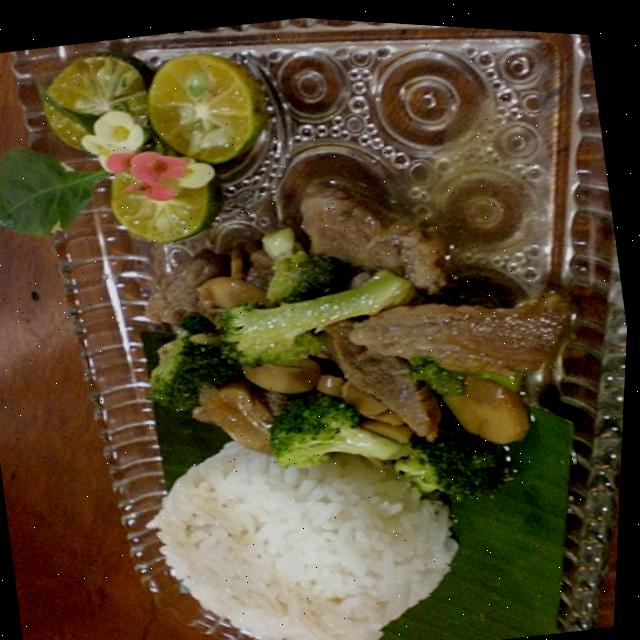牛肉菜式: (1, 1, 635, 640)
